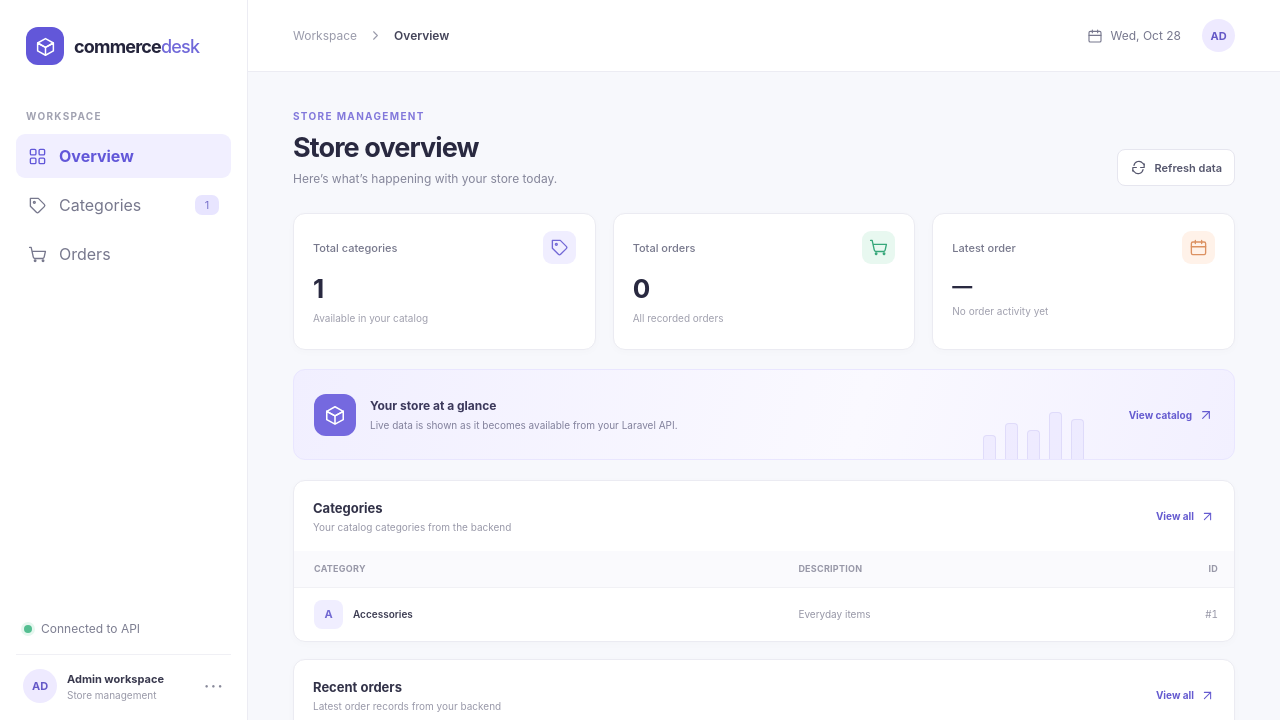
Test: navigates to categories and filters records
Check: the text "Accessories" is shown, box [353, 608, 413, 620]
Click the button "Categories 1" at (124, 205), box [16, 183, 231, 227]
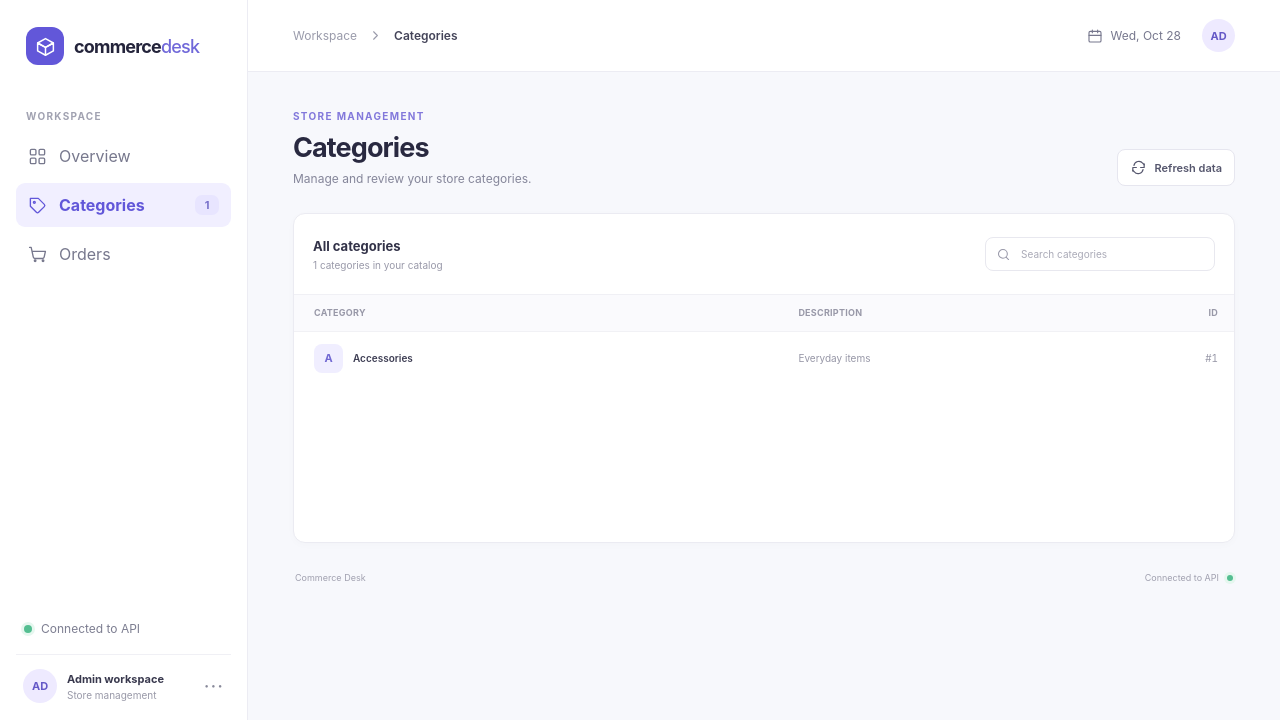
Type "missing category" into the field labelled "Search categories" at (1112, 254), box [1019, 247, 1204, 261]
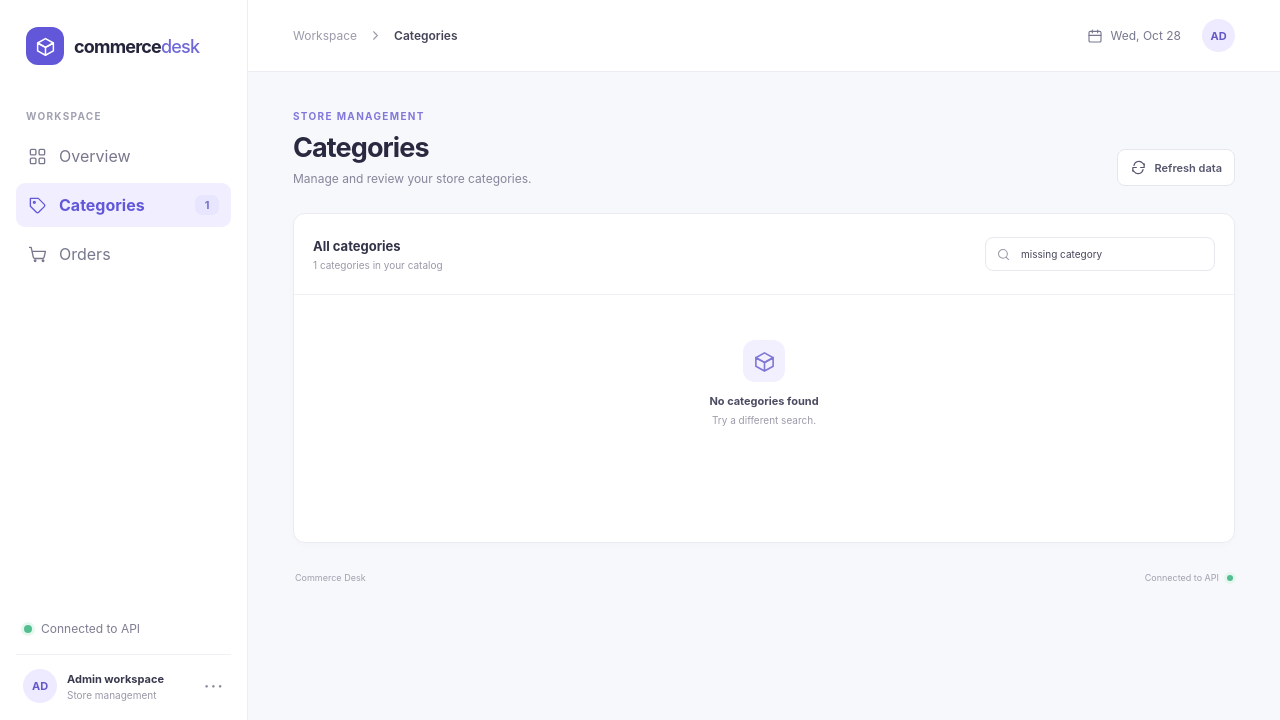
Check: the text "No categories found" is shown, box [709, 394, 819, 408]
Replace the text in the field named "Search categories" with "accessories" at (1112, 254), box [1019, 247, 1204, 261]
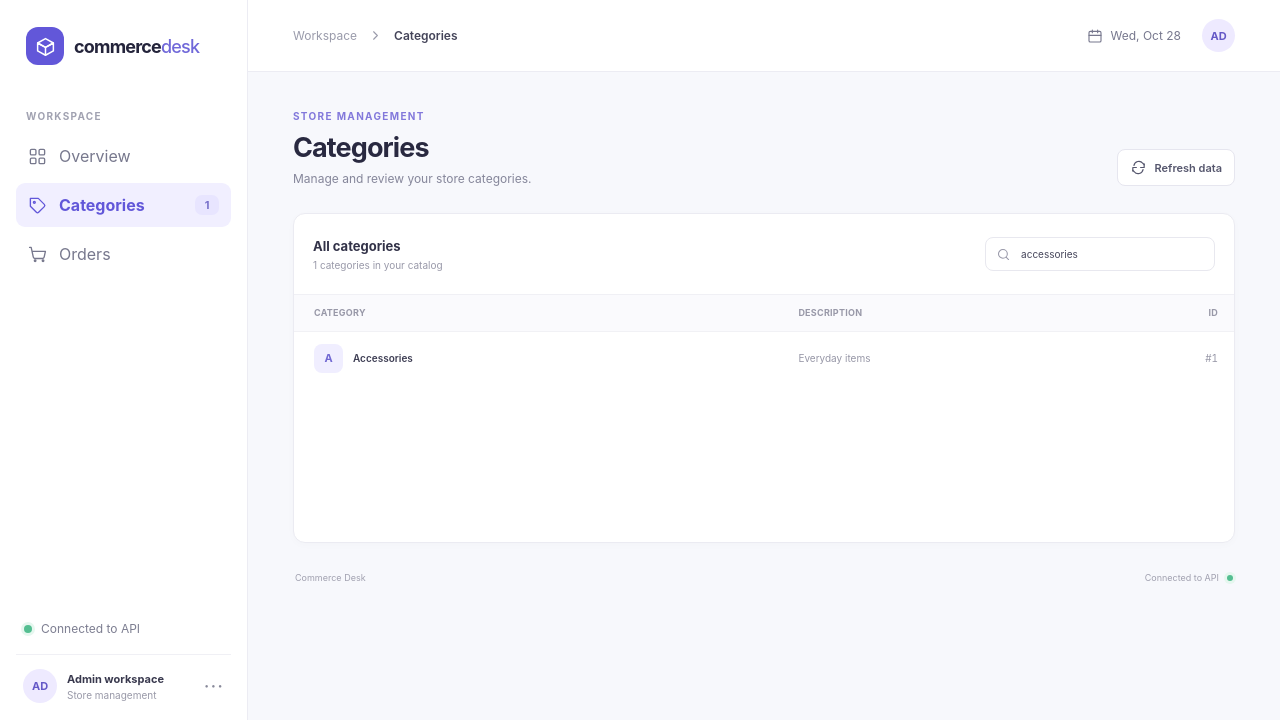
Check: the text "Accessories" is shown, box [353, 352, 413, 364]
